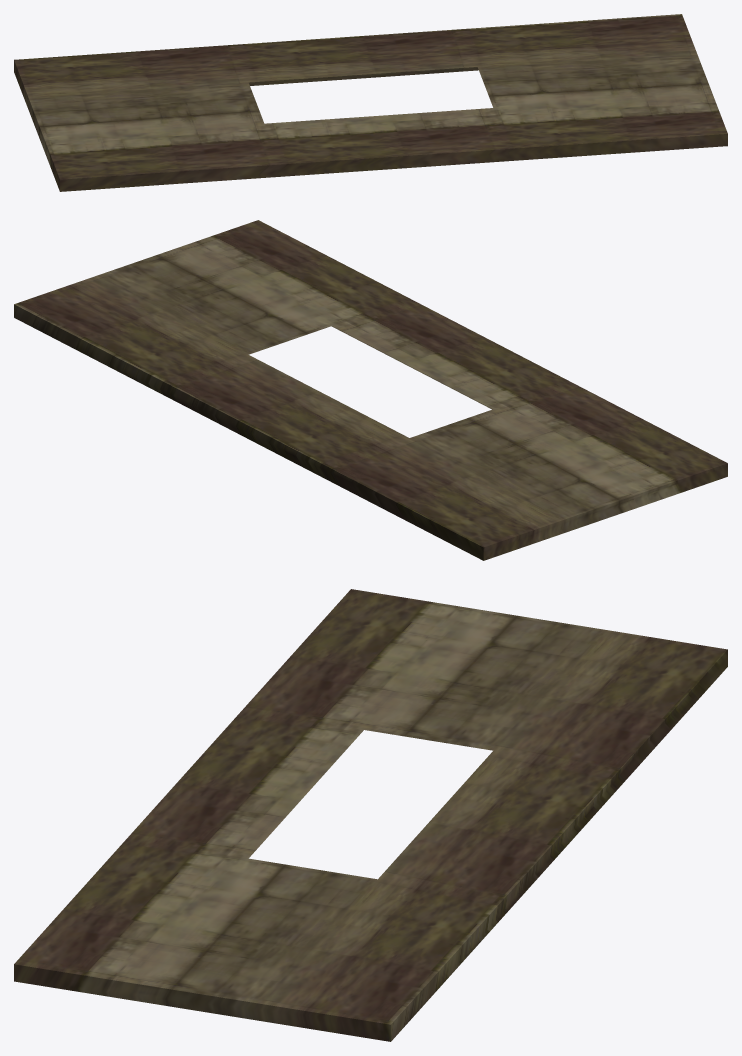
Rendered from H1_F1_RoofHole.gltf.
3 renders of one model, top to bottom at view 1: azimuth 30°, elevation 25°; view 2: azimuth 150°, elevation 25°; view 3: azimuth 270°, elevation 25°, orthographic. The views are drawn at different scales.
Visible parts, largest first — view 1: H1_F1_RoofHole; view 2: H1_F1_RoofHole; view 3: H1_F1_RoofHole.
Boxes of the visible parts, x1,y1,x2,y2 form: H1_F1_RoofHole: (14, 14, 727, 191); H1_F1_RoofHole: (14, 220, 727, 560); H1_F1_RoofHole: (14, 589, 727, 1041).
Size of the model in its own units: 100 by 2.09 by 69.58.
1 material, 1 textured.
